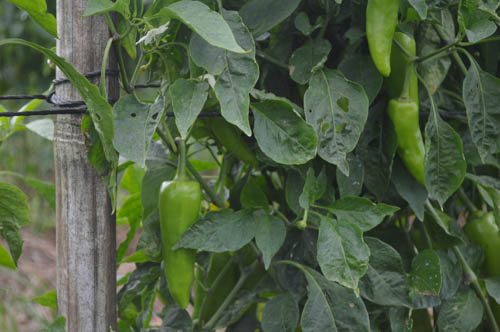ChiliPepper: (160, 180, 201, 311), (390, 100, 425, 180), (391, 33, 425, 103), (362, 1, 393, 74), (470, 215, 500, 265)
